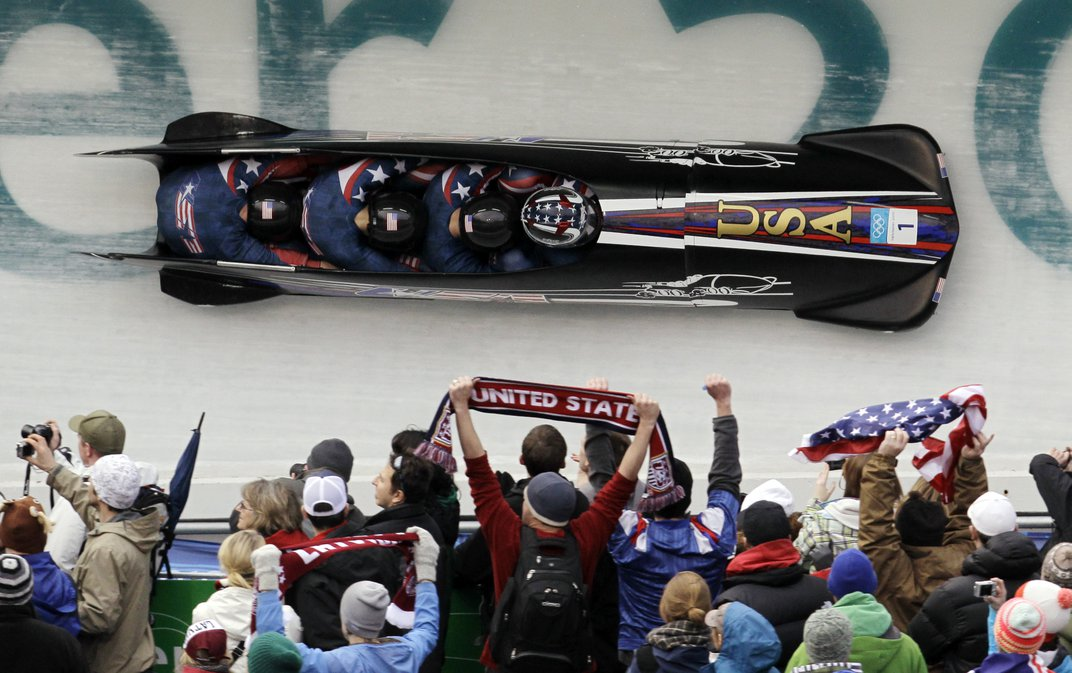Bobsleigh: (83, 113, 959, 326)
